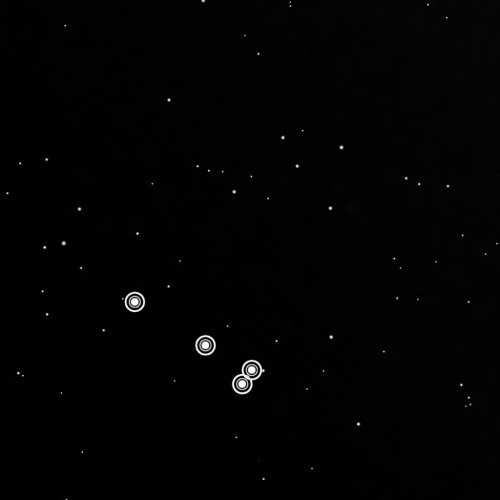sagitta: (117, 285, 271, 398)
